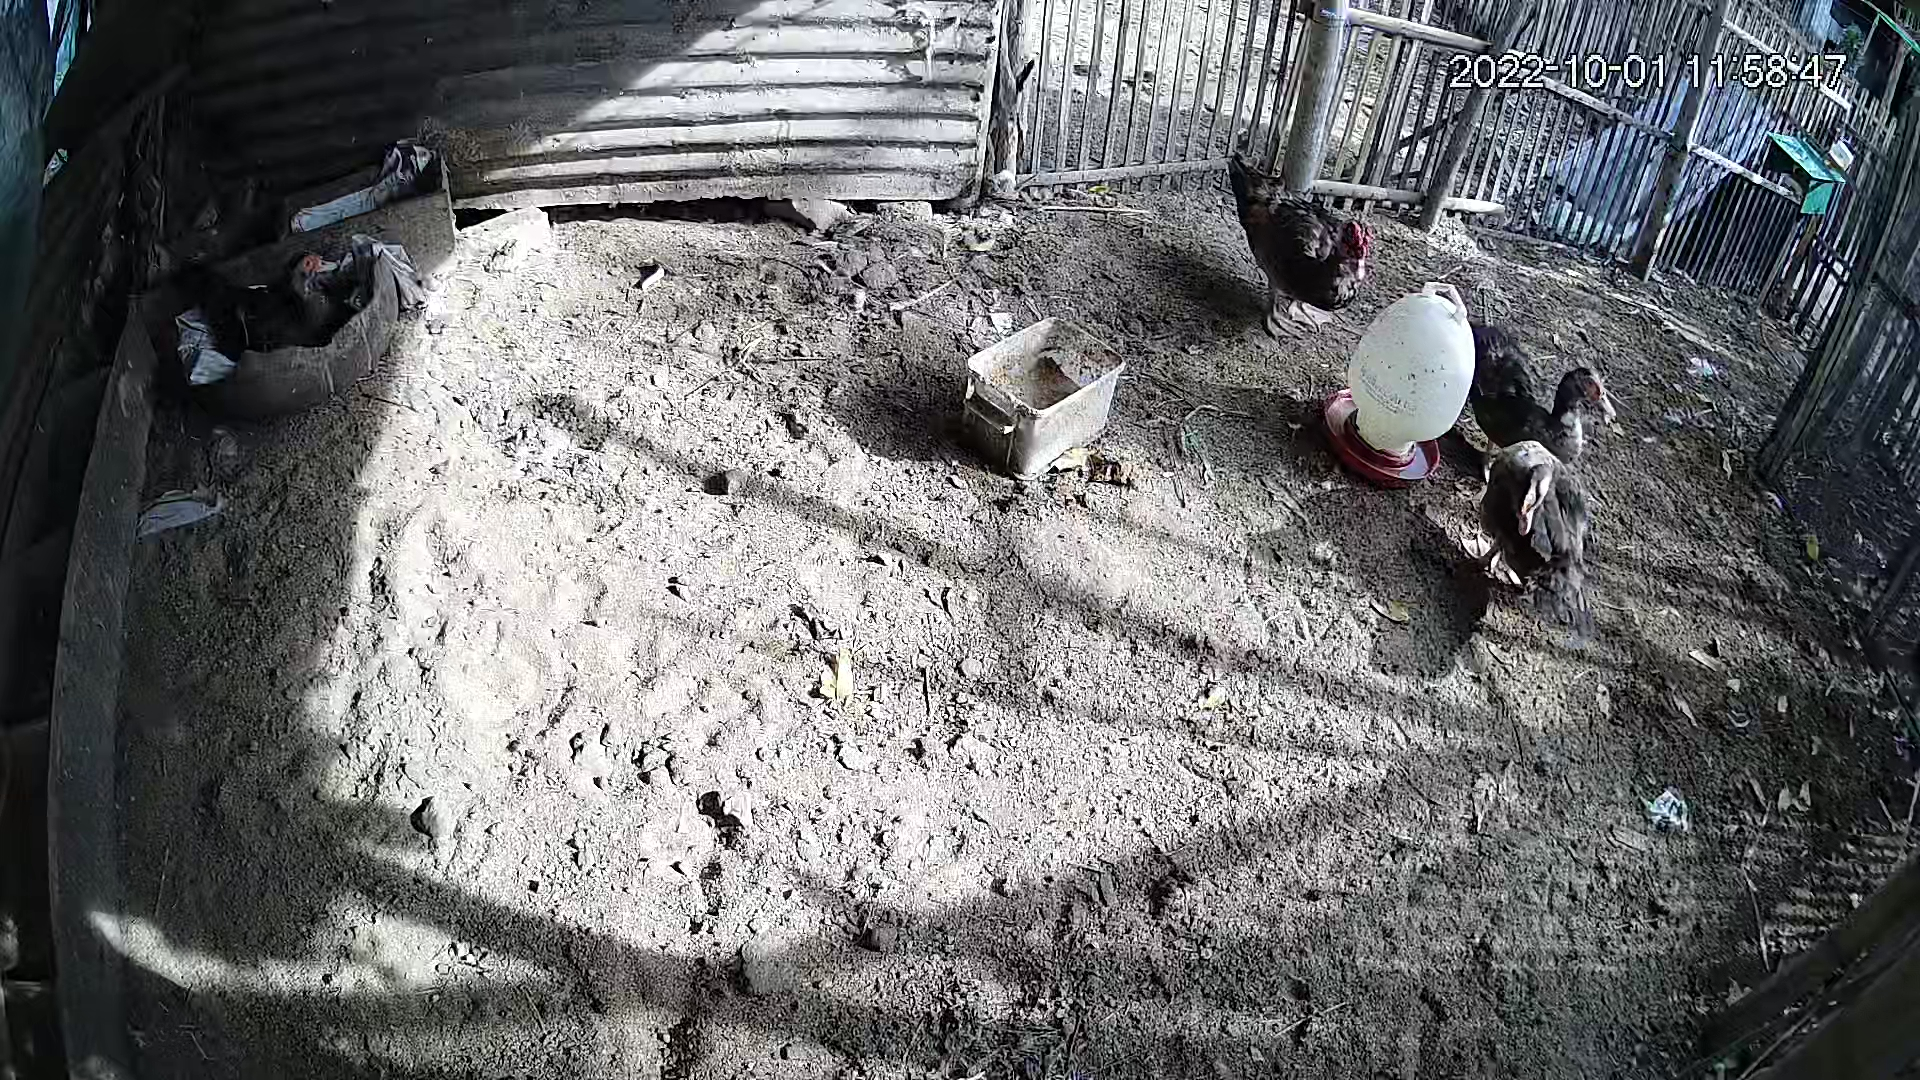Mengeram: (127, 202, 411, 435)
